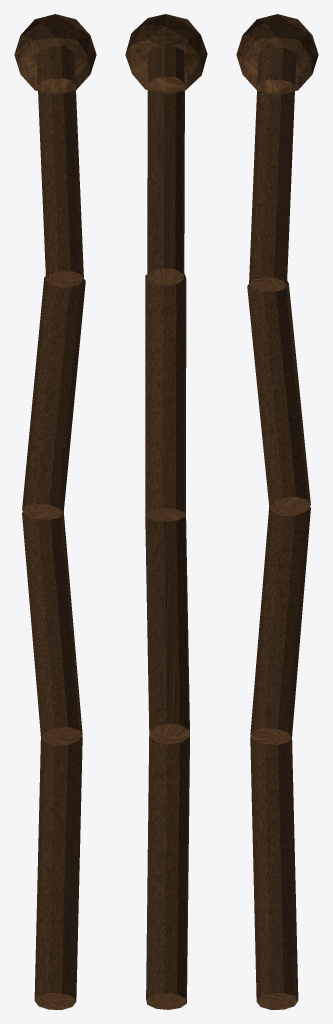
The model's file is staff.glb.
3 renders of one model, left to right at view 1: azimuth 90°, elevation 25°; view 2: azimuth 150°, elevation 25°; view 3: azimuth 270°, elevation 25°, orthographic.
Parts seen in each view (by area): view 1: staff; view 2: staff; view 3: staff.
Boxes of the visible parts, x1,y1,x2,y2 form: staff: (14, 14, 96, 1009); staff: (125, 14, 207, 1009); staff: (236, 14, 318, 1009).
Bounding box in the file's own units: 0.13 × 1.72 × 0.13.
Materials: 1 (1 with a texture image).
